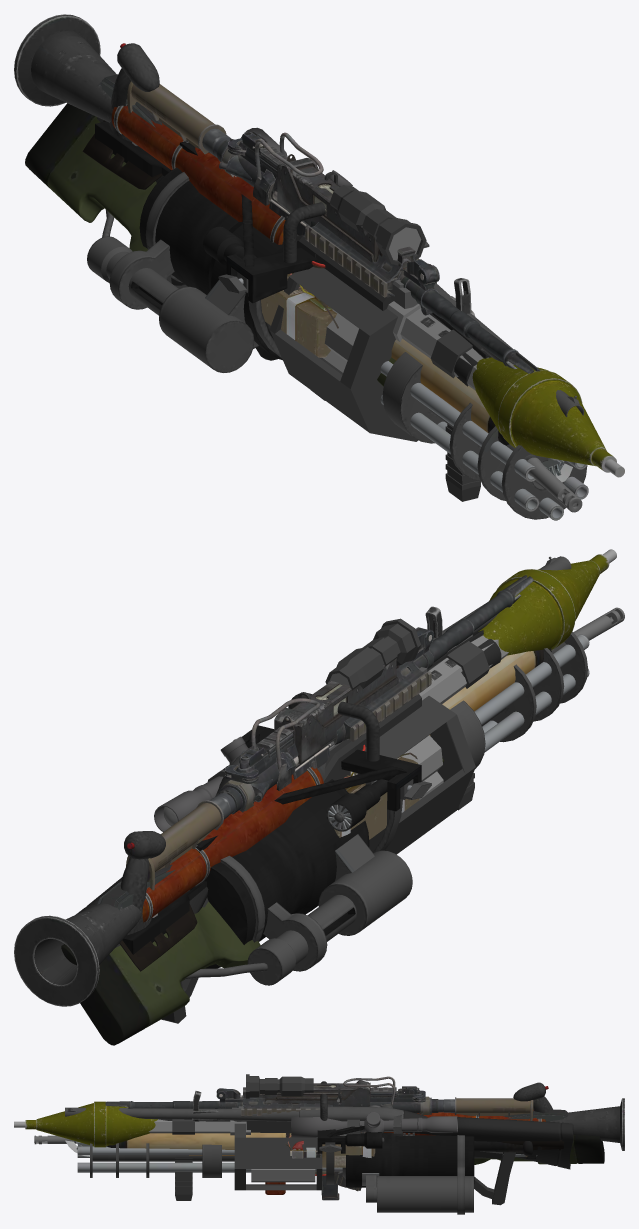
File: arms.glb
The picture shows the model from 3 angles, top to bottom: view 1: azimuth 30°, elevation 25°; view 2: azimuth 150°, elevation 25°; view 3: azimuth 270°, elevation 25°; orthographic projection. The views are drawn at different scales.
Visible parts, largest first — view 1: minigun, rpg, launcher, rifle, sniper, smg, c4, bat, shotgun, katana; view 2: minigun, rpg, launcher, sniper, rifle, smg, bat, shotgun, c4, katana; view 3: minigun, launcher, shotgun, rpg, rifle, sniper, bat, smg, c4, katana.
Boxes of the visible parts, bbox=[...] form: minigun: bbox=[87, 43, 588, 520]; rpg: bbox=[14, 14, 624, 477]; launcher: bbox=[167, 185, 488, 501]; rifle: bbox=[127, 81, 540, 373]; sniper: bbox=[25, 103, 582, 512]; smg: bbox=[253, 132, 410, 400]; c4: bbox=[261, 273, 338, 357]; bat: bbox=[391, 339, 509, 445]; shotgun: bbox=[97, 117, 584, 416]; katana: bbox=[98, 74, 572, 482]; minigun: bbox=[120, 632, 589, 985]; rpg: bbox=[14, 549, 616, 1006]; launcher: bbox=[161, 618, 508, 1023]; sniper: bbox=[61, 607, 624, 1045]; rifle: bbox=[126, 575, 533, 890]; smg: bbox=[251, 658, 399, 790]; bat: bbox=[429, 648, 551, 735]; shotgun: bbox=[76, 556, 571, 947]; c4: bbox=[334, 752, 419, 839]; katana: bbox=[97, 864, 199, 910]; minigun: bbox=[77, 1081, 553, 1214]; launcher: bbox=[149, 1074, 515, 1205]; shotgun: bbox=[65, 1106, 573, 1169]; rpg: bbox=[14, 1085, 624, 1194]; rifle: bbox=[105, 1086, 533, 1191]; sniper: bbox=[34, 1105, 604, 1164]; bat: bbox=[106, 1132, 532, 1155]; smg: bbox=[260, 1076, 395, 1200]; c4: bbox=[285, 1134, 375, 1167]; katana: bbox=[65, 1109, 567, 1156].
Size of the model in its own units: 0.261 by 0.277 by 1.2.
Materials: 23 (21 with a texture image).
